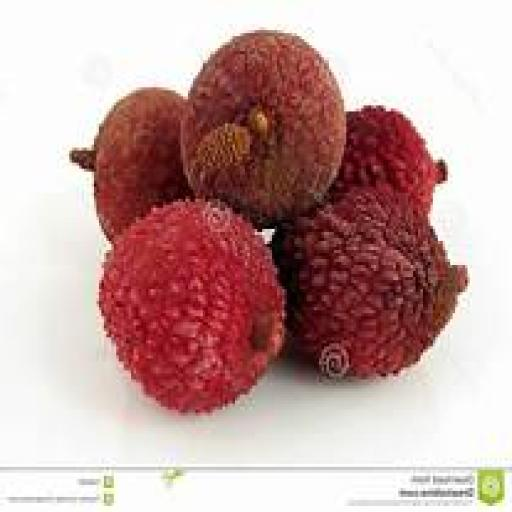lychee: (98, 199, 283, 412), (274, 187, 466, 376), (180, 31, 345, 225), (71, 88, 189, 240), (328, 106, 446, 213)
